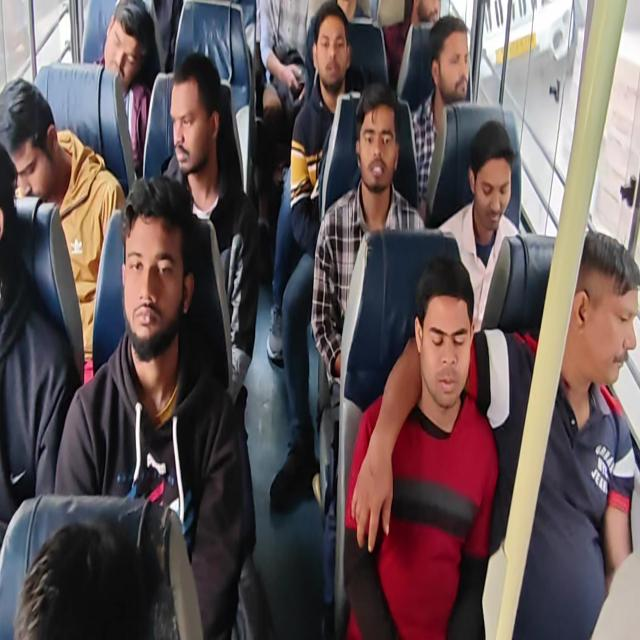person: (1, 0, 638, 638), (353, 229, 639, 638), (53, 173, 250, 638), (344, 256, 499, 638), (504, 230, 638, 638), (268, 1, 365, 508), (0, 76, 127, 369), (310, 80, 425, 387), (160, 52, 260, 403), (0, 142, 82, 533), (288, 1, 364, 251), (437, 119, 521, 332), (12, 518, 158, 639), (412, 14, 472, 214), (94, 0, 160, 176), (259, 0, 309, 121), (384, 0, 441, 88)
